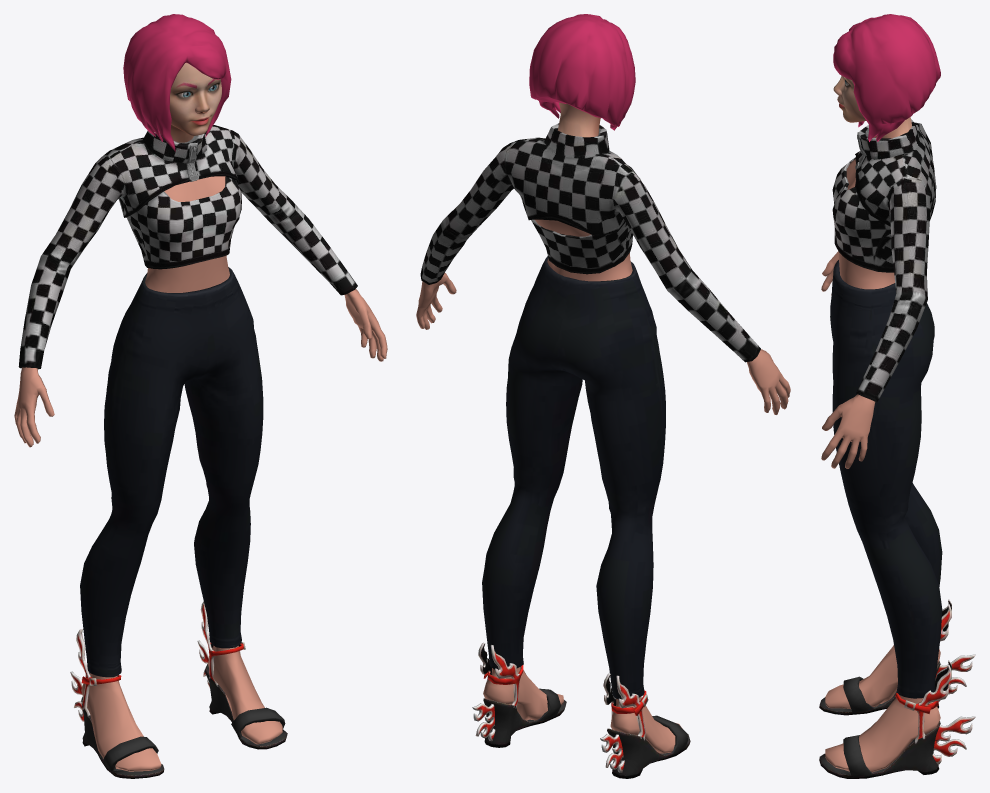
Rendered from female npc.fbx.
3 renders of one model, left to right at view 1: azimuth 30°, elevation 25°; view 2: azimuth 150°, elevation 25°; view 3: azimuth 270°, elevation 25°, orthographic.
Visible parts, largest first — view 1: Wolf3D_Outfit_Bottom, Wolf3D_Outfit_Top, Wolf3D_Body, Wolf3D_Hair, Wolf3D_Outfit_Footwear, Wolf3D_Head; view 2: Wolf3D_Outfit_Bottom, Wolf3D_Outfit_Top, Wolf3D_Hair, Wolf3D_Outfit_Footwear, Wolf3D_Body, Wolf3D_Head; view 3: Wolf3D_Outfit_Bottom, Wolf3D_Outfit_Top, Wolf3D_Body, Wolf3D_Hair, Wolf3D_Outfit_Footwear, Wolf3D_Head.
Boxes of the visible parts, left/top/right/bottom form: Wolf3D_Outfit_Bottom: left=80, top=267, right=263, bottom=677; Wolf3D_Outfit_Top: left=18, top=125, right=357, bottom=369; Wolf3D_Body: left=14, top=176, right=387, bottom=771; Wolf3D_Hair: left=123, top=14, right=231, bottom=151; Wolf3D_Outfit_Footwear: left=70, top=601, right=287, bottom=778; Wolf3D_Head: left=160, top=63, right=221, bottom=142; Wolf3D_Outfit_Bottom: left=482, top=256, right=665, bottom=699; Wolf3D_Outfit_Top: left=420, top=123, right=760, bottom=362; Wolf3D_Hair: left=529, top=14, right=635, bottom=130; Wolf3D_Outfit_Footwear: left=472, top=642, right=690, bottom=778; Wolf3D_Body: left=416, top=219, right=790, bottom=753; Wolf3D_Head: left=558, top=102, right=600, bottom=137; Wolf3D_Outfit_Bottom: left=830, top=260, right=942, bottom=698; Wolf3D_Outfit_Top: left=832, top=119, right=936, bottom=402; Wolf3D_Body: left=821, top=159, right=940, bottom=772; Wolf3D_Hair: left=833, top=14, right=940, bottom=141; Wolf3D_Outfit_Footwear: left=819, top=599, right=975, bottom=778; Wolf3D_Head: left=833, top=75, right=911, bottom=138.
Bounding box in the file's own units: 0.9279 × 1.77 × 0.3484.
Materials: 8 (8 with a texture image).
